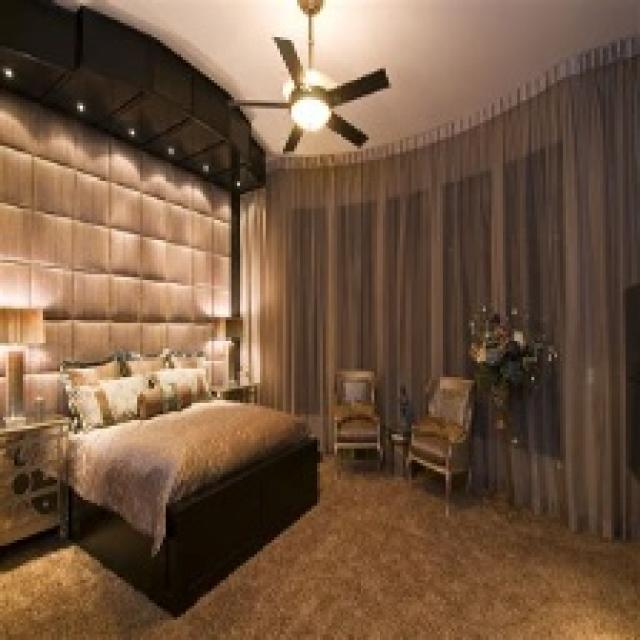Bed: (0, 343, 320, 617)
